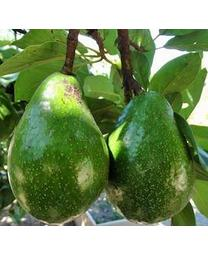avocado: (6, 71, 110, 224), (105, 91, 195, 224)
